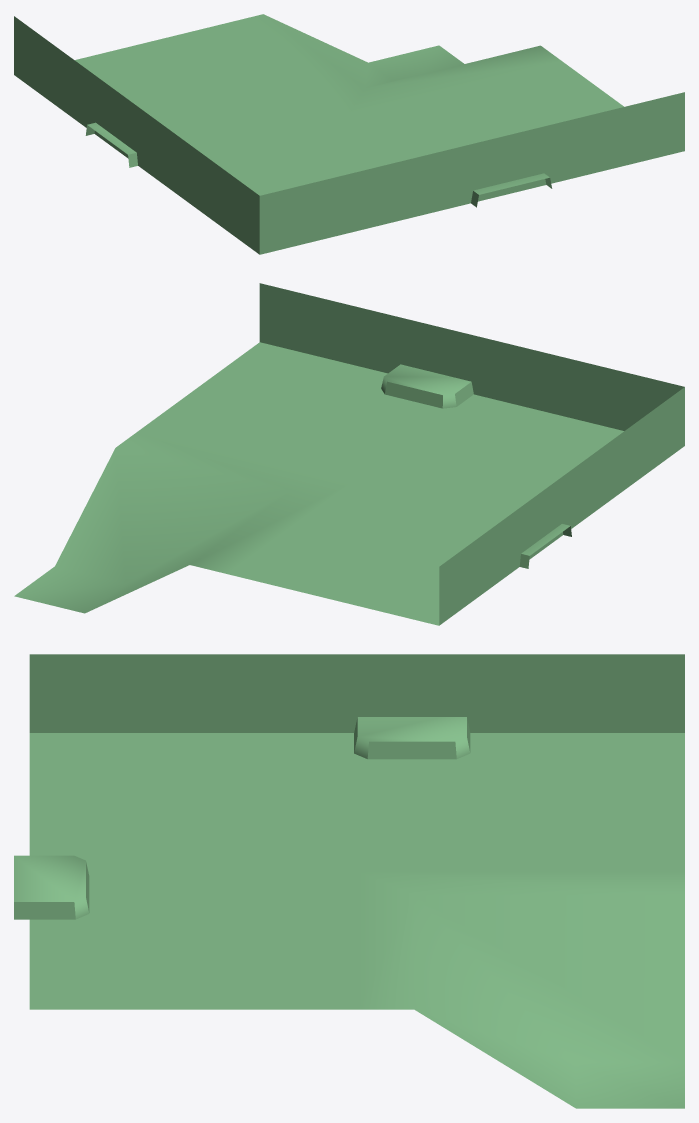
Rendered from Room_Corner_16_B_COL.fbx.
The picture shows the model from 3 angles, top to bottom: view 1: azimuth 30°, elevation 25°; view 2: azimuth 150°, elevation 25°; view 3: azimuth 270°, elevation 25°; orthographic projection. The views are drawn at different scales.
Visible parts, largest first — view 1: Room_Corner_16_B_COL; view 2: Room_Corner_16_B_COL; view 3: Room_Corner_16_B_COL.
Boxes of the visible parts, <box> form: Room_Corner_16_B_COL: <box>14,14,684,254</box>; Room_Corner_16_B_COL: <box>14,283,684,625</box>; Room_Corner_16_B_COL: <box>14,654,684,1108</box>.
Bounding box in the file's own units: 1225 × 359 × 1230.
